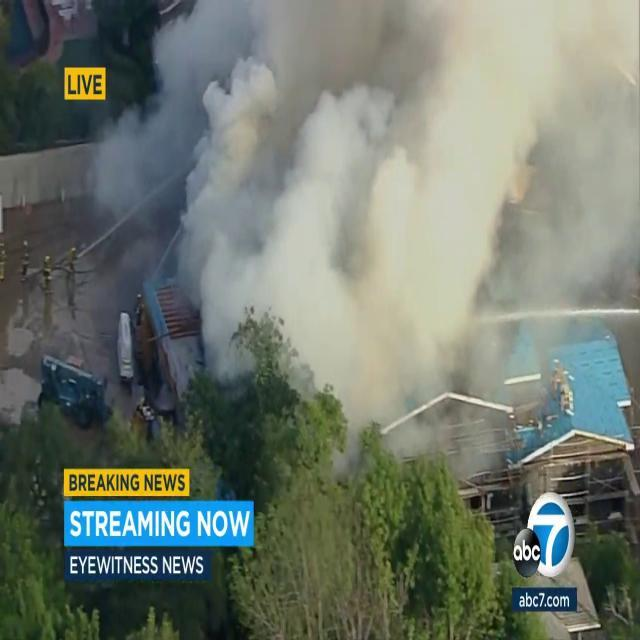Smoke: (91, 0, 640, 404)
